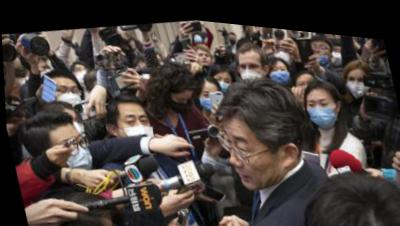NONE: (222, 119, 276, 191), (294, 68, 321, 97), (195, 44, 213, 64)
OK: (51, 128, 94, 178), (114, 105, 155, 152), (50, 78, 85, 115), (305, 88, 338, 126), (236, 51, 267, 85), (343, 62, 373, 95), (197, 82, 224, 111), (167, 87, 197, 113), (91, 206, 128, 226), (268, 56, 292, 84), (66, 109, 85, 140), (72, 63, 94, 89), (212, 69, 235, 92), (327, 38, 346, 60), (272, 40, 292, 59), (36, 61, 53, 81), (194, 30, 204, 40), (228, 30, 238, 40)
WRONG: (310, 33, 333, 60)
